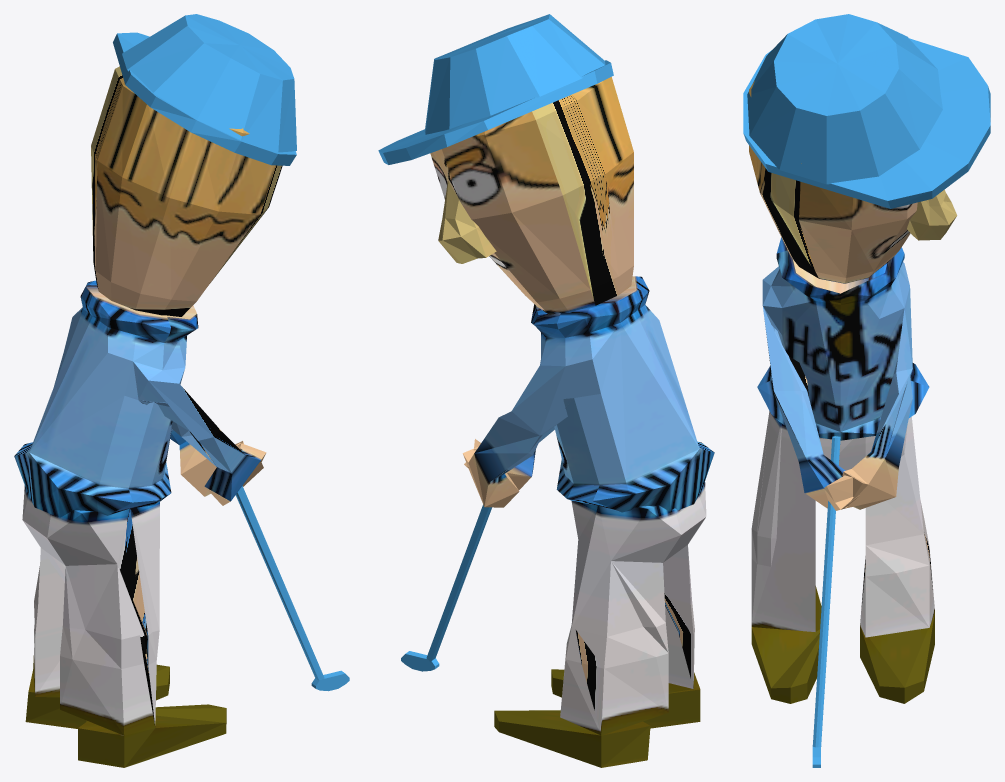
The model's file is PipGolf.glb.
3 views of the same model, side by side, from view 1: azimuth 30°, elevation 25°; view 2: azimuth 150°, elevation 25°; view 3: azimuth 270°, elevation 25° (orthographic).
Parts seen in each view (by area): view 1: PipGolf; view 2: PipGolf; view 3: PipGolf.
Boxes of the visible parts, x1,y1,x2,y2 form: PipGolf: (14, 14, 349, 767); PipGolf: (378, 14, 714, 767); PipGolf: (743, 14, 990, 767).
Bounding box in the file's own units: 54.61 × 117 × 37.84.
1 material, 1 textured.
